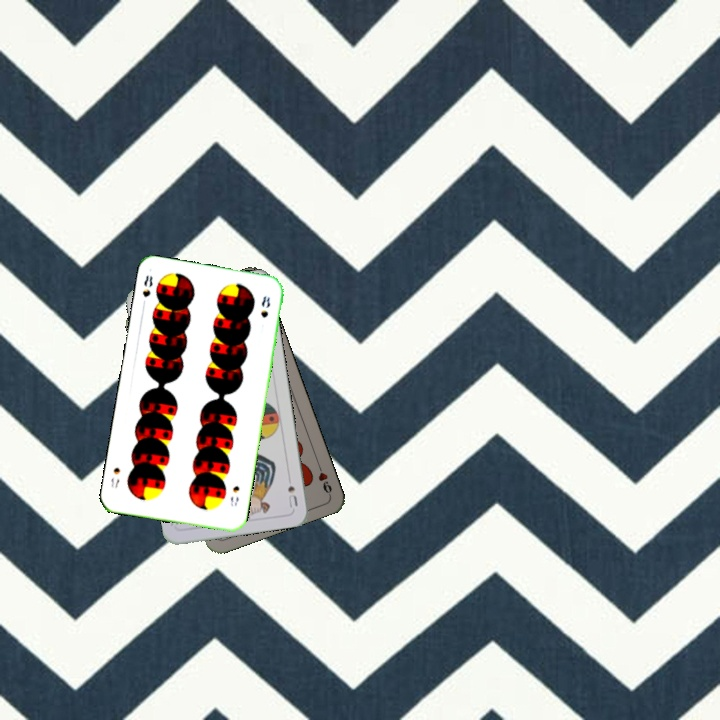H9: (313, 458, 334, 498)
S8: (138, 271, 155, 310), (226, 482, 242, 509)
SU: (284, 482, 300, 510)
